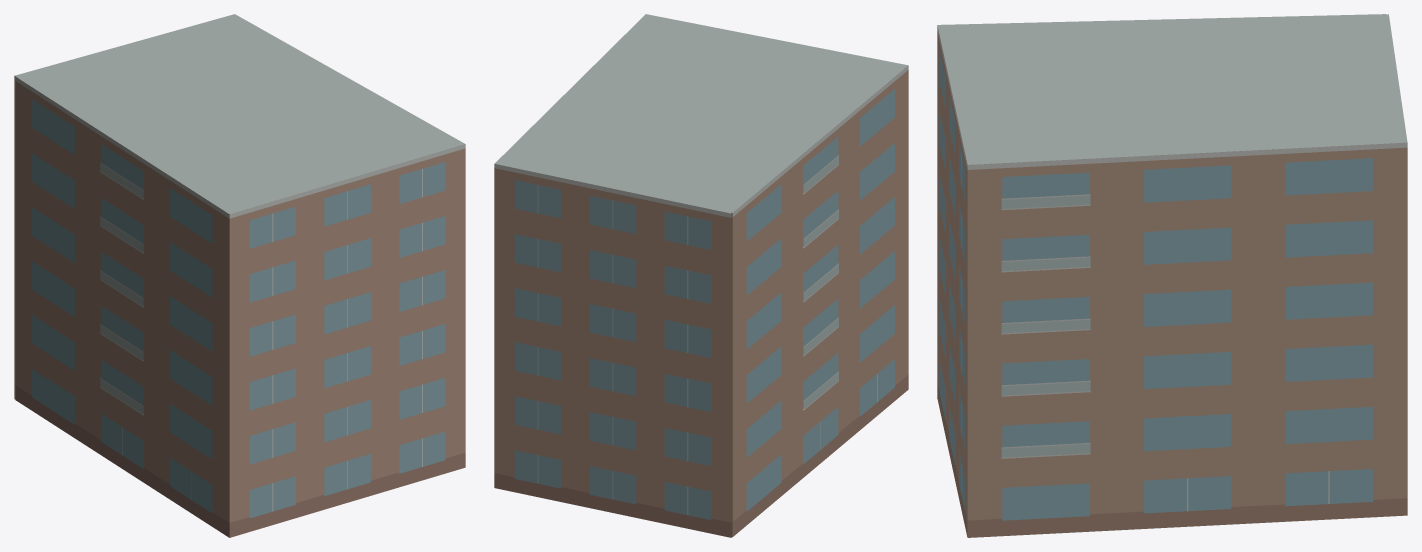
File: survey-upis-32740578.glb
The picture shows the model from 3 angles, left to right: view 1: azimuth 30°, elevation 25°; view 2: azimuth 150°, elevation 25°; view 3: azimuth 270°, elevation 25°; orthographic projection. The views are drawn at different scales.
Parts seen in each view (by area): view 1: survey-upis-32740578.tmp; view 2: survey-upis-32740578.tmp; view 3: survey-upis-32740578.tmp.
Part boxes in pixels (<box>): survey-upis-32740578.tmp: <box>14,14,465,537</box>; survey-upis-32740578.tmp: <box>494,14,908,537</box>; survey-upis-32740578.tmp: <box>937,14,1407,537</box>.
Size of the model in its own units: 15.72 by 18.1 by 20.69.
